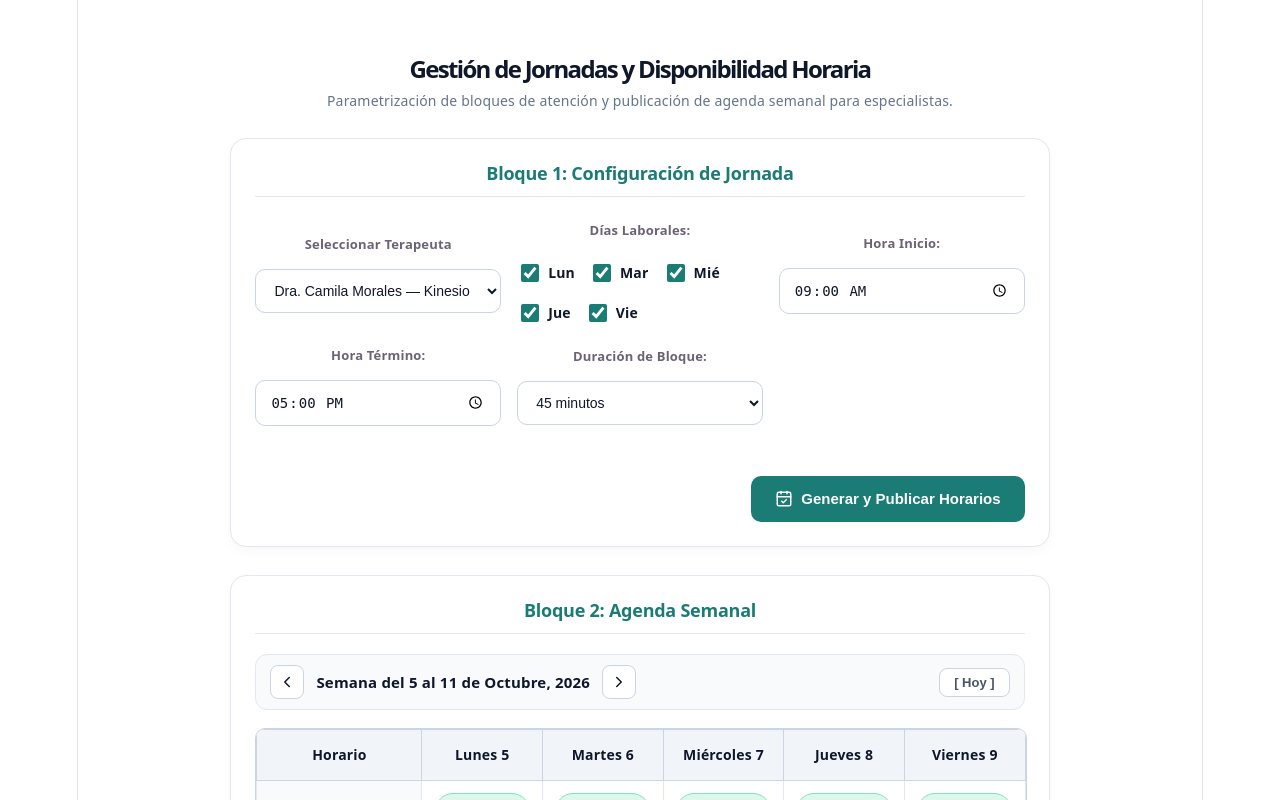
Test case: ScheduleConfigPage Component › shows validation error banner when end time is before start time
The image size is (1280, 800).
Expected: the text "Generar y Publicar Horarios" is shown, [801, 490, 1001, 507]
Replace the text in the time field below "Hora Inicio:" with "17:00" at (902, 291), box [779, 268, 1024, 314]
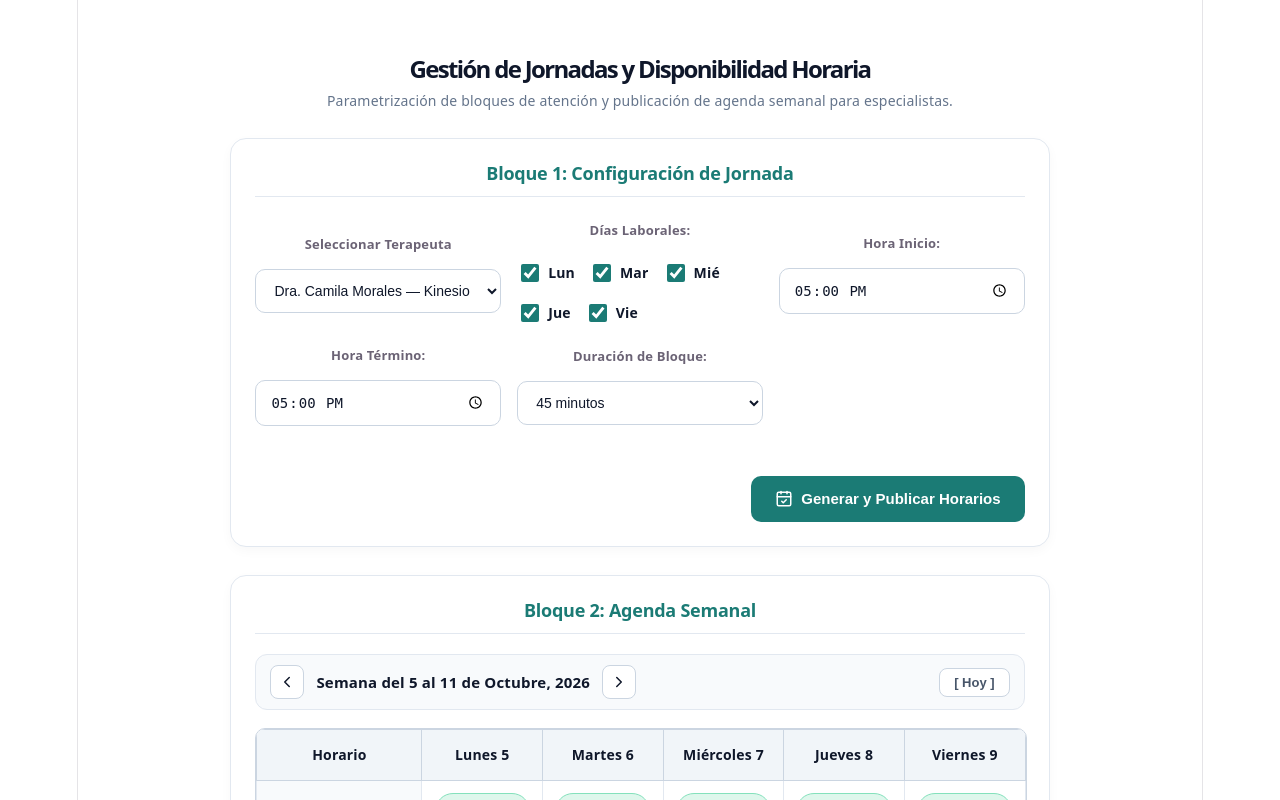
Replace the text in the time field below "Hora Término:" with "09:00" at (378, 403), box [255, 380, 501, 426]
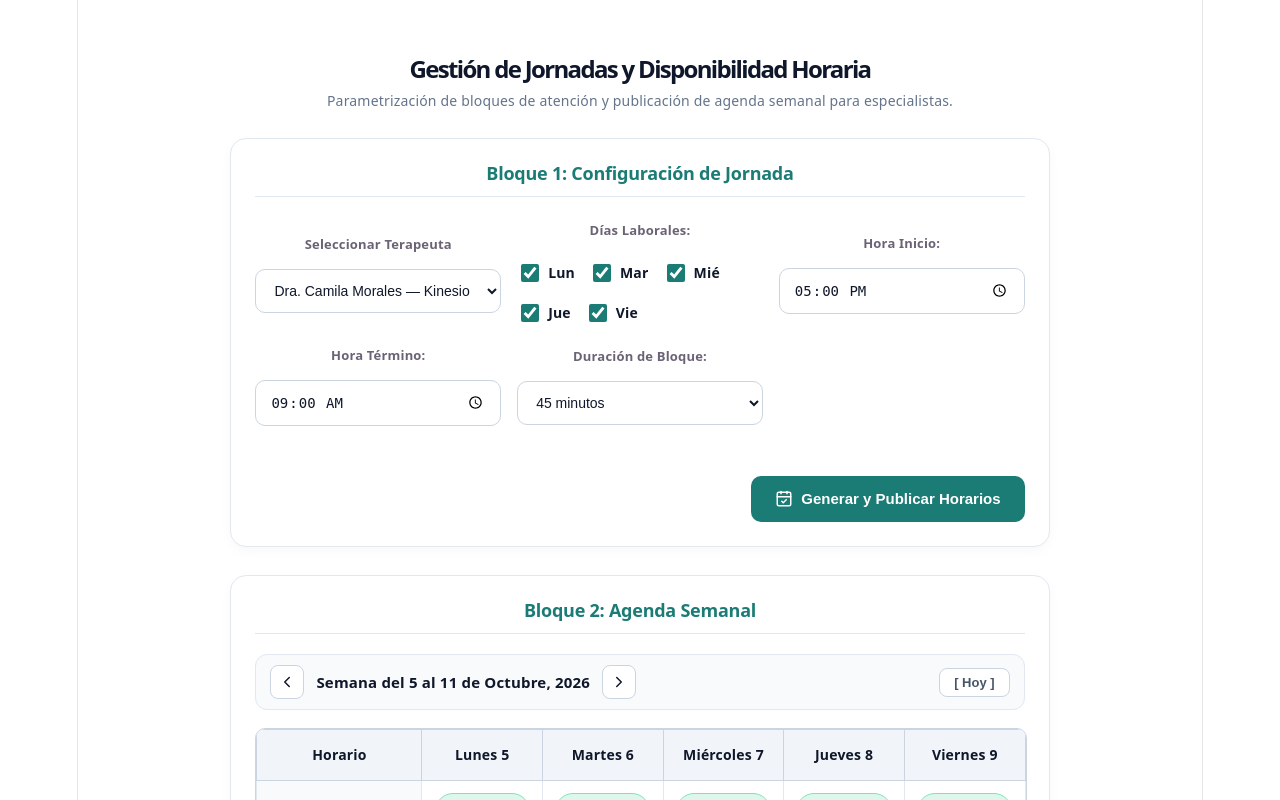
Submit the form, box [255, 217, 1025, 522]
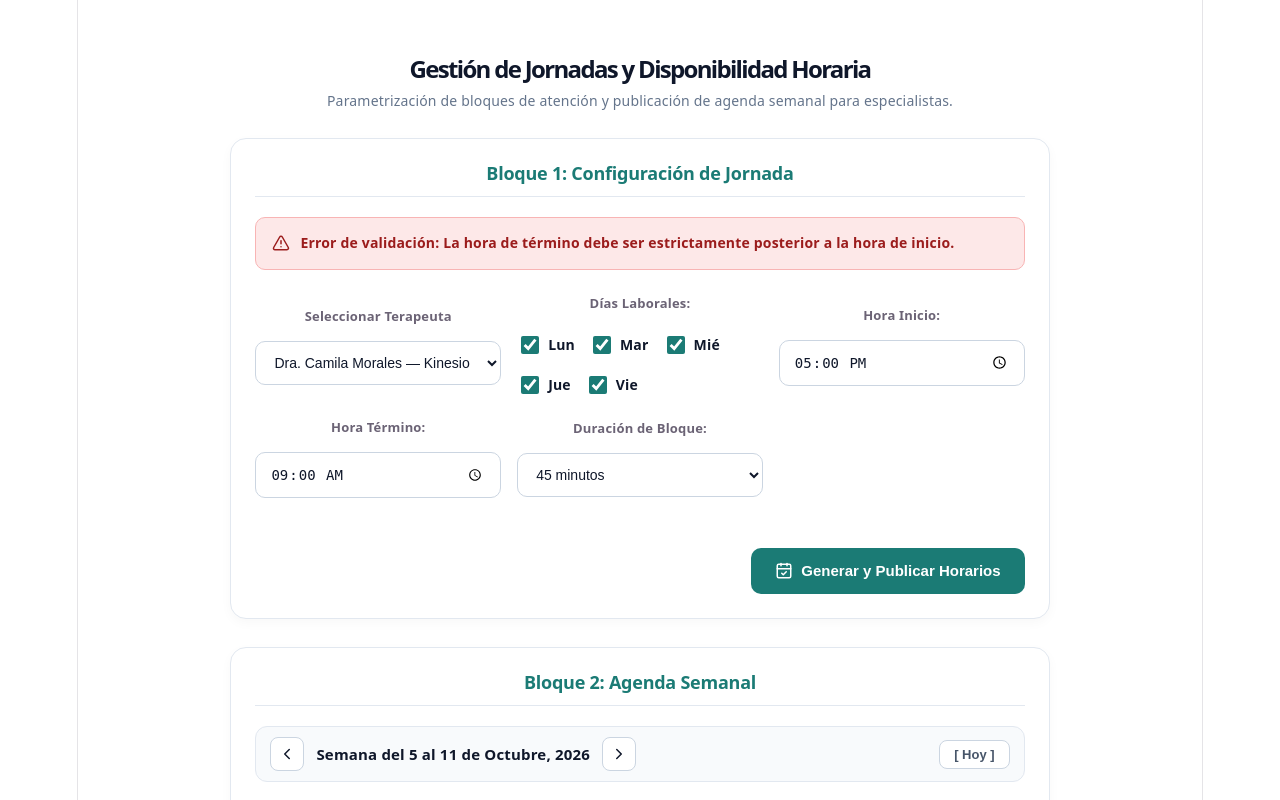
Expected: the text "La hora de término debe ser estrictamente posterior" is shown, [300, 233, 954, 252]
